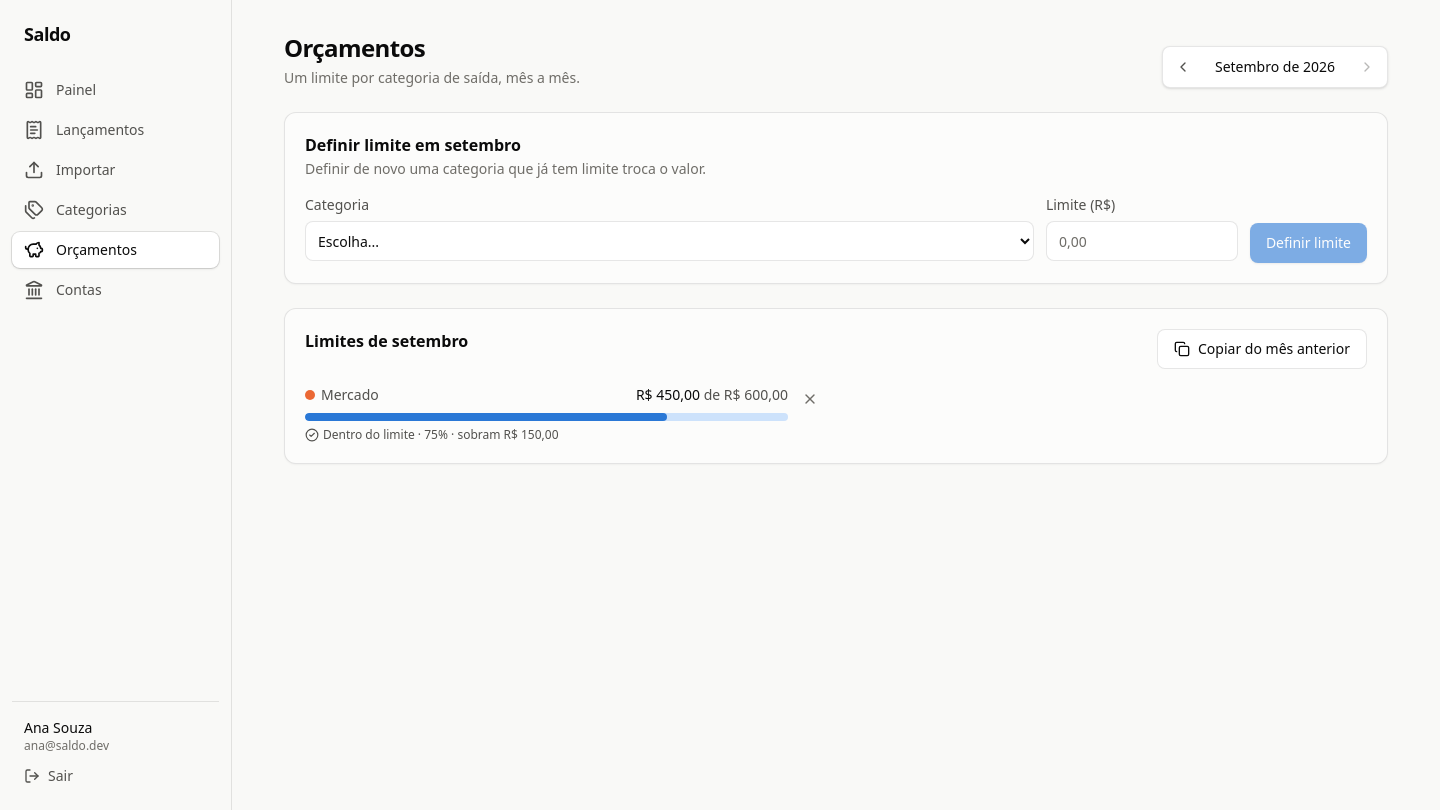
Test: budgets page › copies only the missing limits from the previous month
This screenshot has width=1440, height=810.
Expected: the progress indicator named "Orçamento de Mercado" is shown, [305,413,788,421]
Click the button "Copiar do mês anterior" at {"x": 1262, "y": 349}, box [1157,329,1367,369]
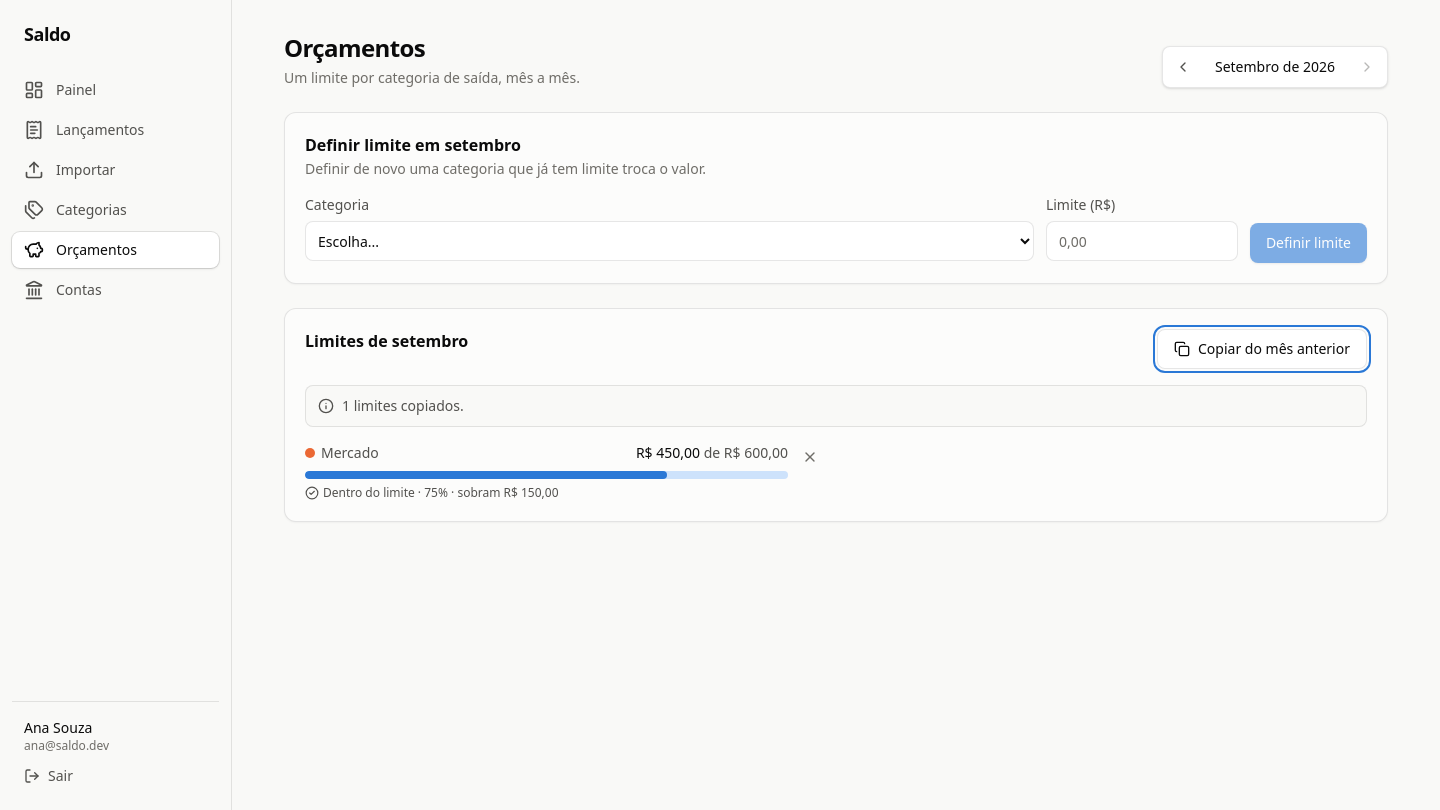
Expected: the text "1 limites copiados." is shown, [342,396,464,416]
